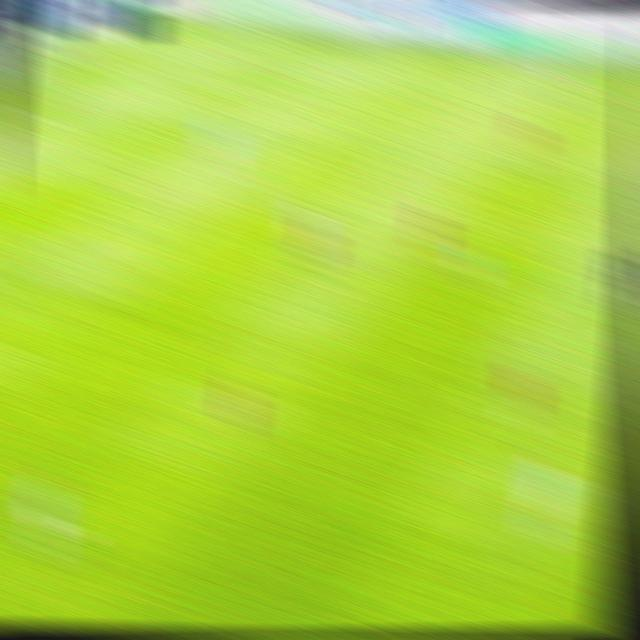bigarea_top_inner: (259, 78, 296, 115)
bigarea_top_outter: (48, 43, 85, 74)
bottom_arc_area_intersection: (48, 225, 86, 265)
corner: (140, 5, 180, 30)
smallarea_top_inner: (24, 104, 61, 134)
top_arc_area_intersection: (179, 136, 215, 168)
